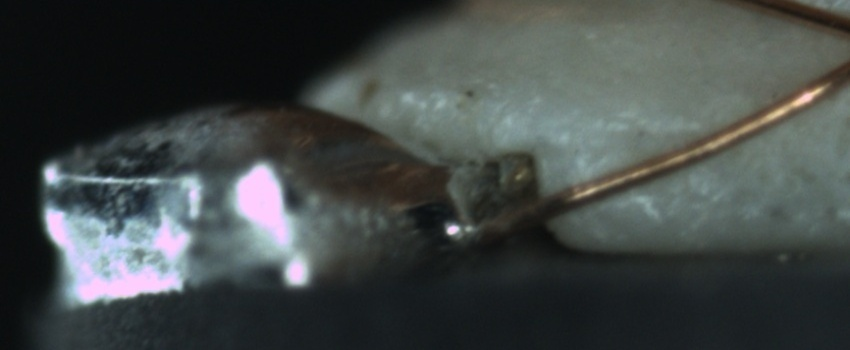DL: (589, 101, 732, 160)
